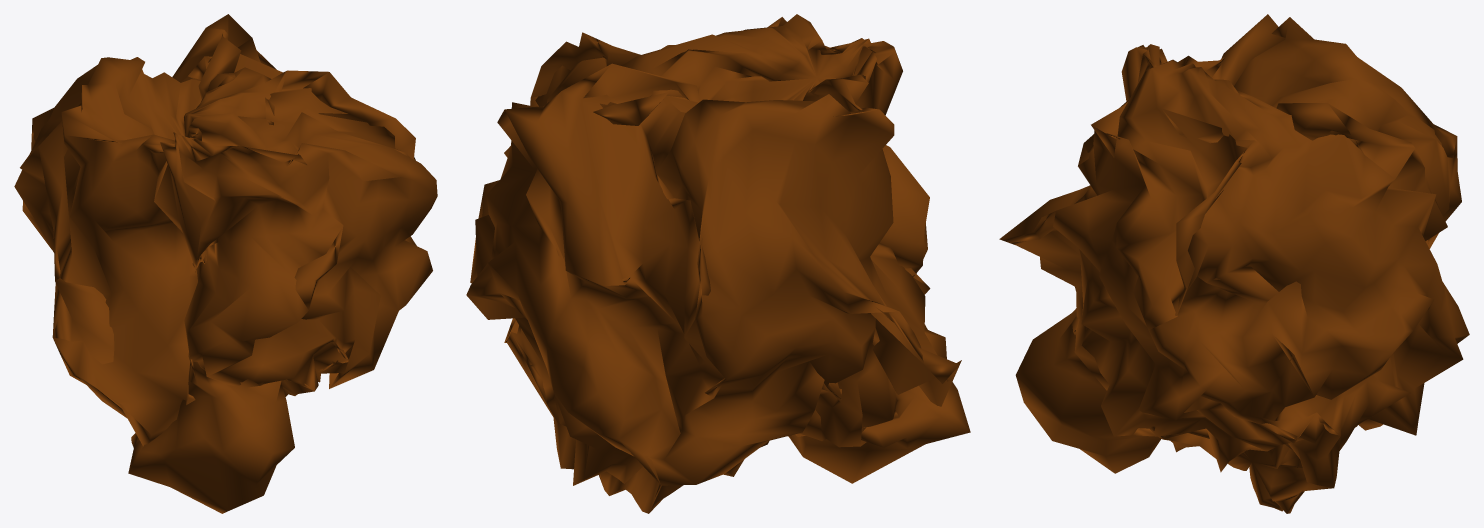
Rendered from Astroid Model 04.FBX.
The picture shows the model from 3 angles, left to right: view 1: azimuth 30°, elevation 25°; view 2: azimuth 150°, elevation 25°; view 3: azimuth 270°, elevation 25°; orthographic projection. The views are drawn at different scales.
Parts seen in each view (by area): view 1: Sphere001; view 2: Sphere001; view 3: Sphere001.
Boxes of the visible parts, bbox=[...] form: Sphere001: bbox=[14, 14, 437, 513]; Sphere001: bbox=[466, 14, 970, 513]; Sphere001: bbox=[999, 14, 1469, 513].
Bounding box in the file's own units: 107 × 111 × 111.
